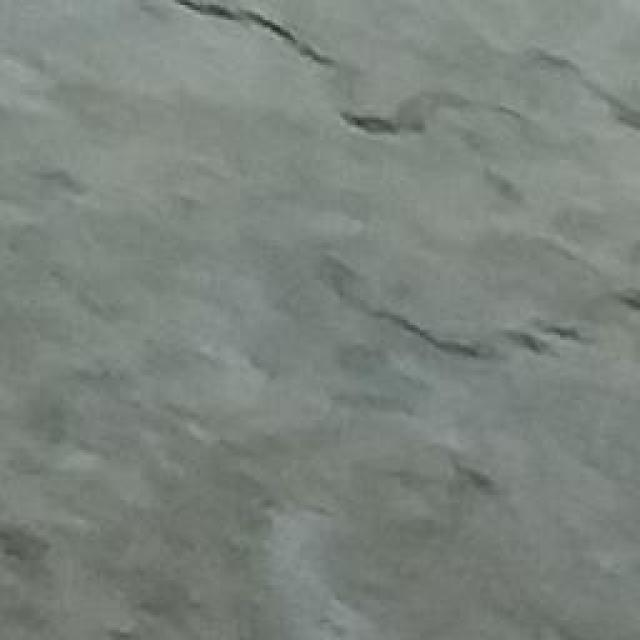Rippled: (0, 160, 239, 639)
Transverse: (116, 3, 640, 164), (258, 247, 640, 377)
